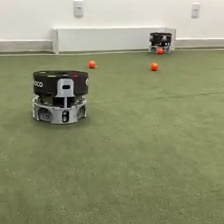ball: (88, 58, 97, 68), (150, 61, 159, 70), (157, 46, 164, 54)
goal: (50, 25, 177, 55)
robot: (30, 68, 90, 126), (148, 31, 172, 55)
